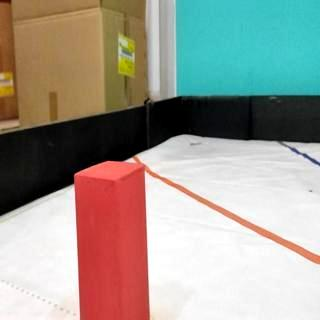redbox: (74, 159, 150, 320)
